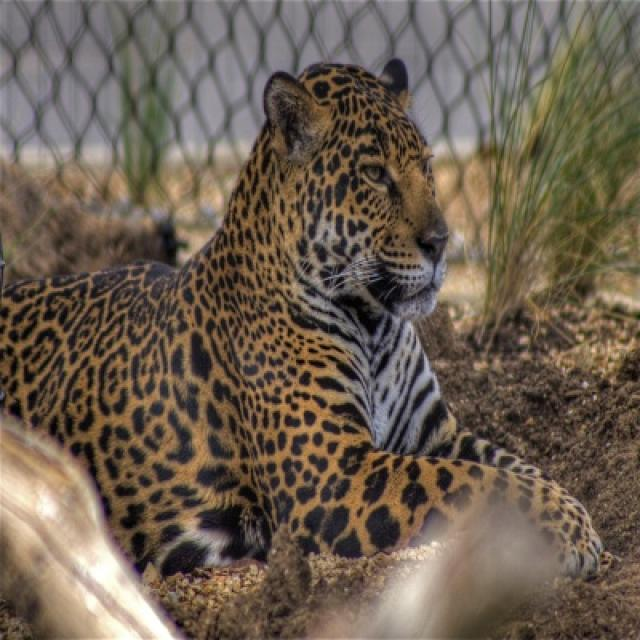Jaguar: (0, 61, 603, 638)
